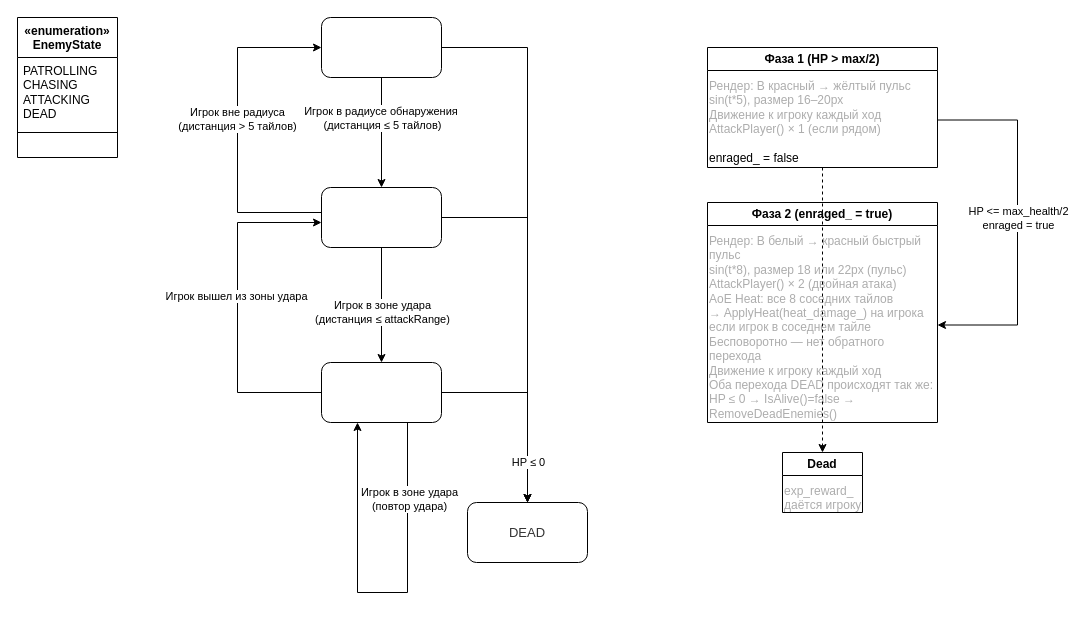
The diagram is 1085 pixels wide and 618 high, and some of its shapes have lost their labels. Here are the shapes that lost their labels. From the top down, the centre of each, then its label:
At point 381,47: "PATROLLING".
At point 381,217: "CHASING".
At point 381,392: "ATTACKING".
